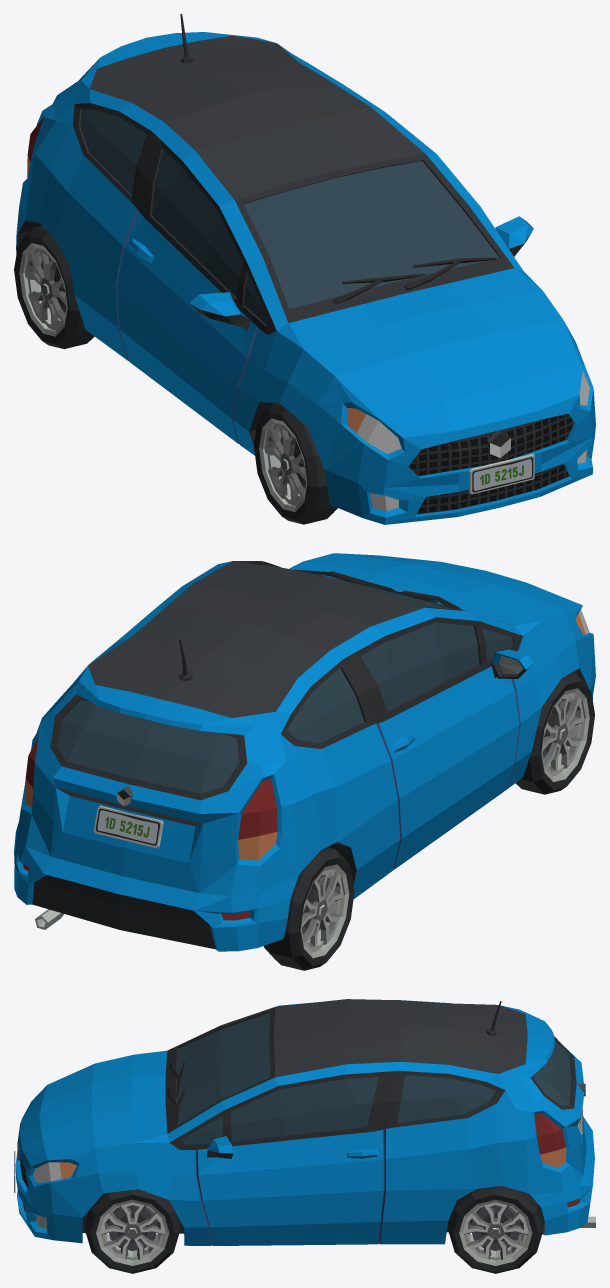
The model's file is compact.glb.
The picture shows the model from 3 angles, top to bottom: view 1: azimuth 30°, elevation 25°; view 2: azimuth 150°, elevation 25°; view 3: azimuth 270°, elevation 25°; orthographic projection. The views are drawn at different scales.
Parts seen in each view (by area): view 1: SM_Veh_Car_Small_01, SM_Veh_Car_Small_Glass, SM_Veh_Car_Small_Wheel_fr, SM_Veh_Car_Small_Wheel_rr, SM_Veh_Car_Small_Plates; view 2: SM_Veh_Car_Small_01, SM_Veh_Car_Small_Glass, SM_Veh_Car_Small_Wheel_rr, SM_Veh_Car_Small_Wheel_fr, SM_Veh_Car_Small_Plates; view 3: SM_Veh_Car_Small_01, SM_Veh_Car_Small_Glass, SM_Veh_Car_Small_Wheel_rl, SM_Veh_Car_Small_Wheel_fl.
Part boxes in pixels (x1,y1,x2,y2): SM_Veh_Car_Small_01: (16,14,595,524); SM_Veh_Car_Small_Glass: (80,109,499,324); SM_Veh_Car_Small_Wheel_fr: (253,402,337,524); SM_Veh_Car_Small_Wheel_rr: (14,226,94,349); SM_Veh_Car_Small_Plates: (469,453,534,494); SM_Veh_Car_Small_01: (14,553,595,951); SM_Veh_Car_Small_Glass: (58,564,512,793); SM_Veh_Car_Small_Wheel_rr: (263,847,354,970); SM_Veh_Car_Small_Wheel_fr: (515,672,594,794); SM_Veh_Car_Small_Plates: (94,805,163,848); SM_Veh_Car_Small_01: (15,999,595,1245); SM_Veh_Car_Small_Glass: (177,1012,571,1144); SM_Veh_Car_Small_Wheel_rl: (448,1186,543,1273); SM_Veh_Car_Small_Wheel_fl: (85,1189,179,1273).
Size of the model in its own units: 1.82 by 1.53 by 3.6.
3 materials, 1 textured.
